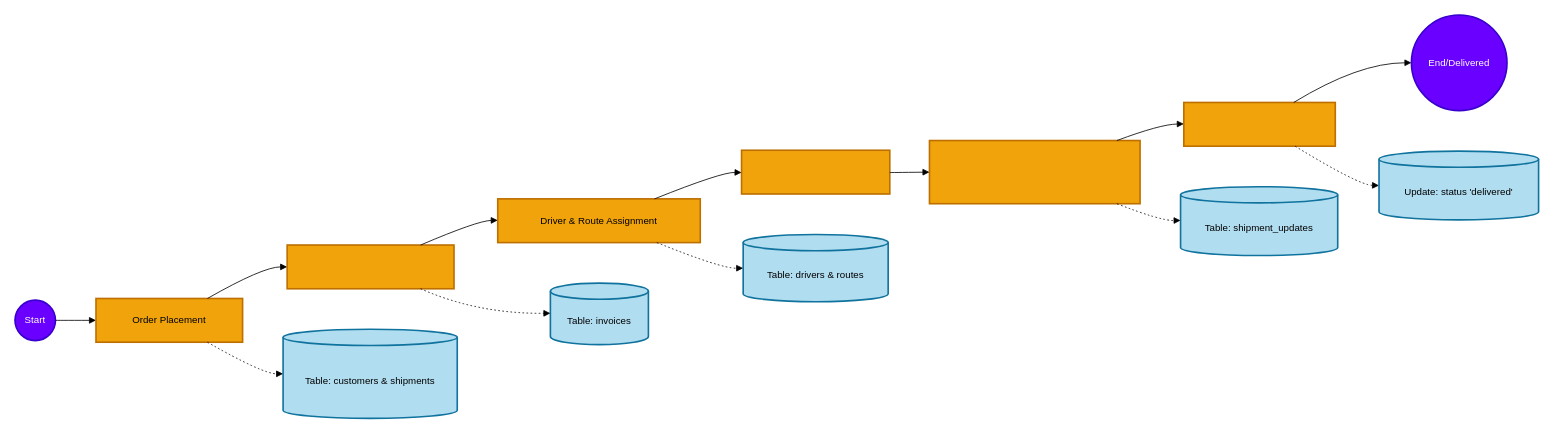
Image size: 1553x433. Some labels were removed from this diagram. Here are the shapes that lost their labels. From the top down, the centre of each, then its label:
(1259,124): Last Mile Delivery
(815,171): Loading & Pickup
(1034,171): In-Transit & Real-time Tracking
(370,266): Invoicing & Payment
